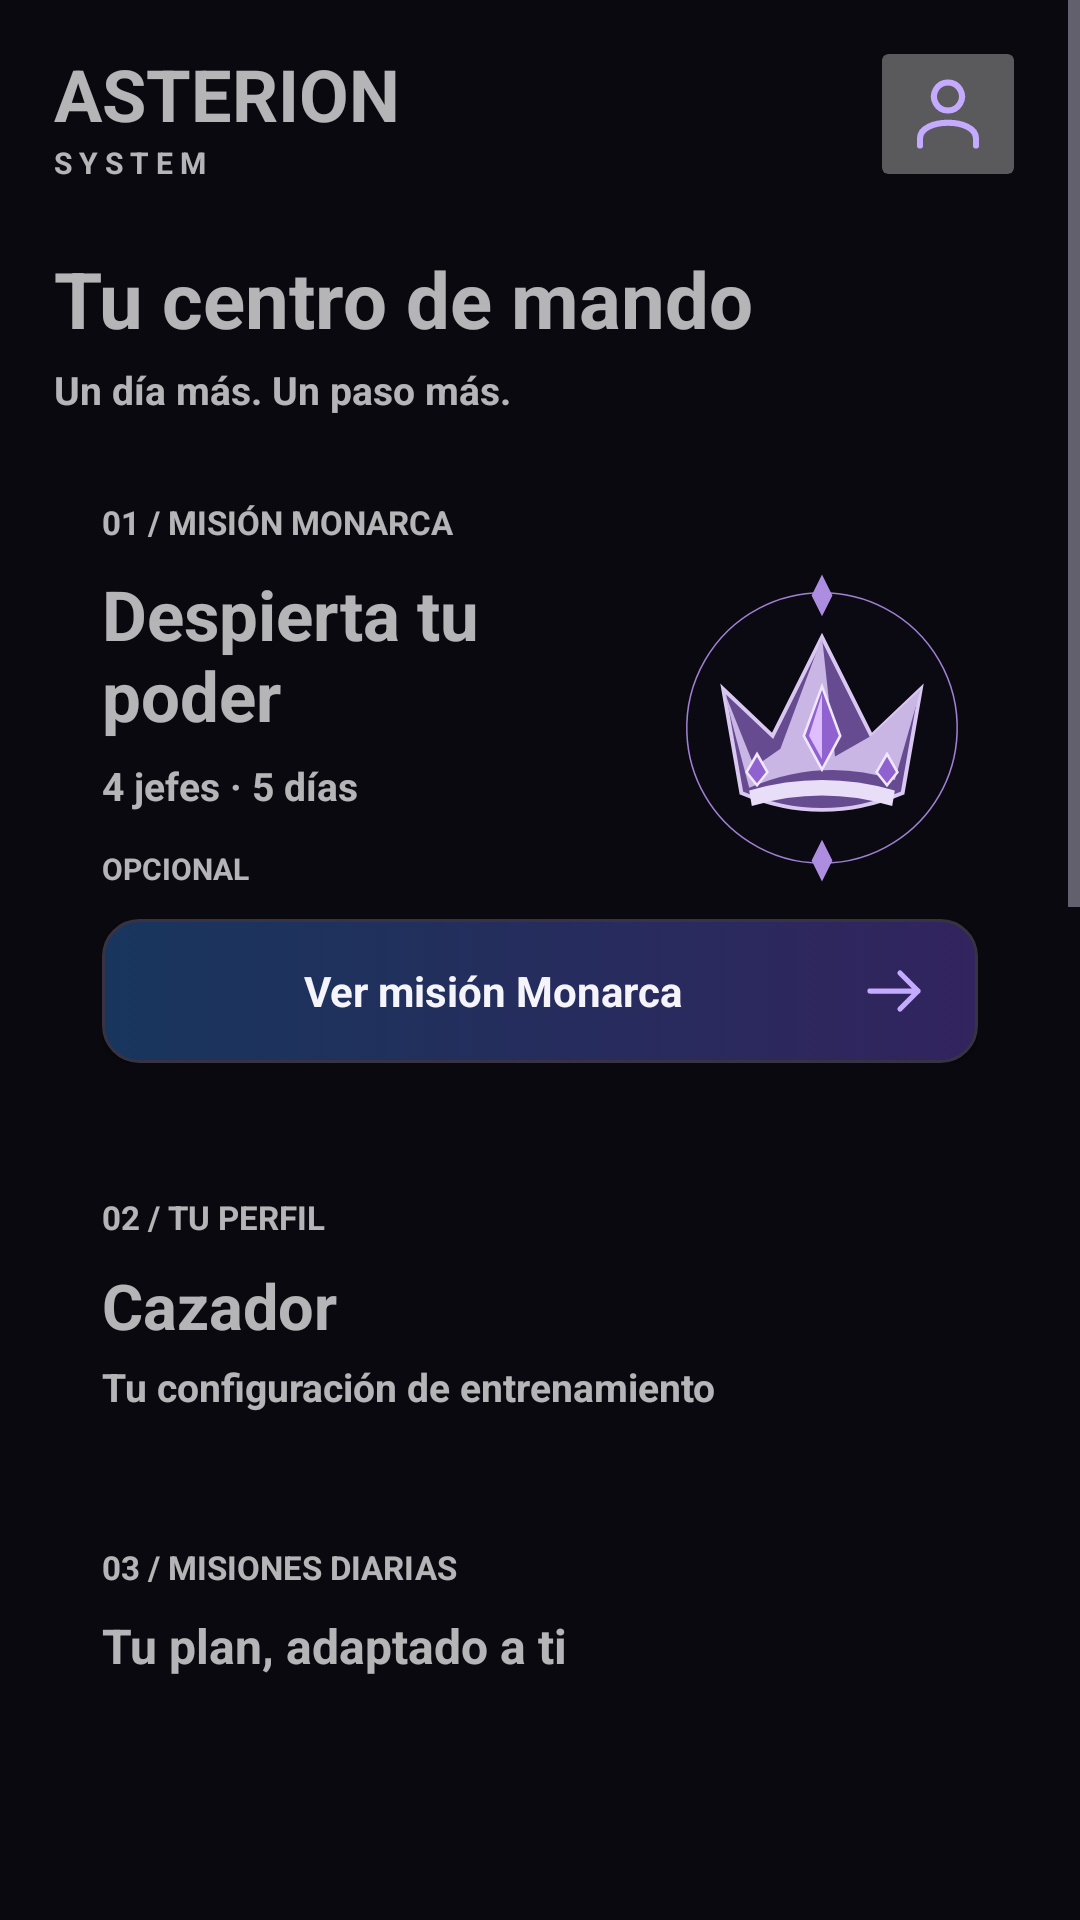

Icon click points for this 1080 x 1920 phone screenshot, format [x,y]:
Abrir perfil y modificar mis datos: [948,114]
asterion monarch emblem: [822,728]
